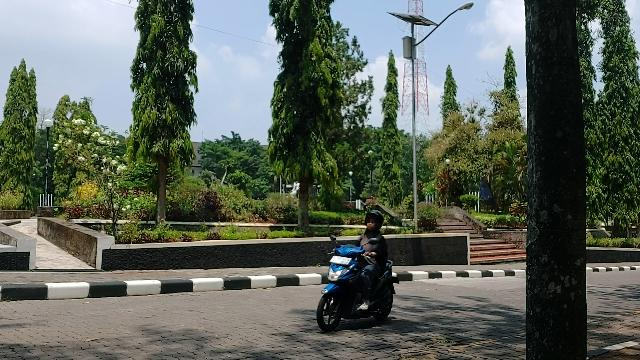helm: (365, 210, 386, 233)
motor: (317, 234, 402, 334)
